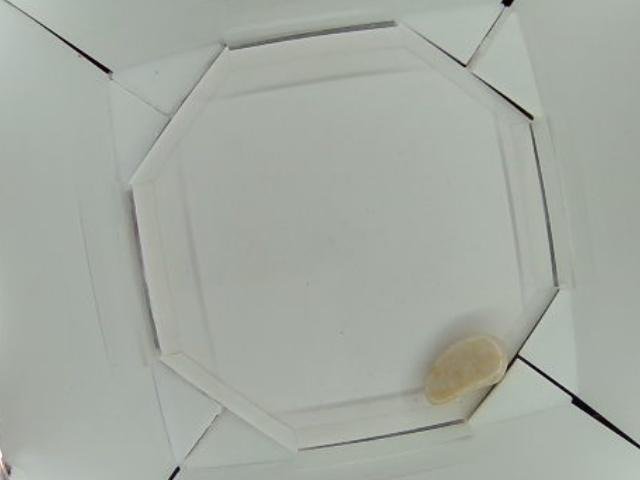Pebble: (422, 329, 508, 408)
